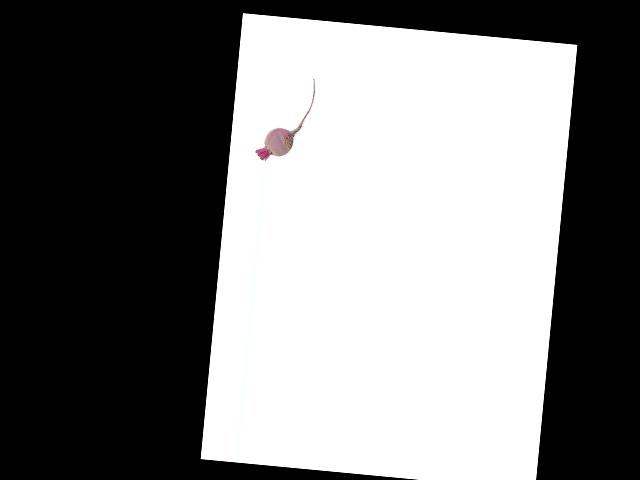beet: (254, 72, 316, 164)
